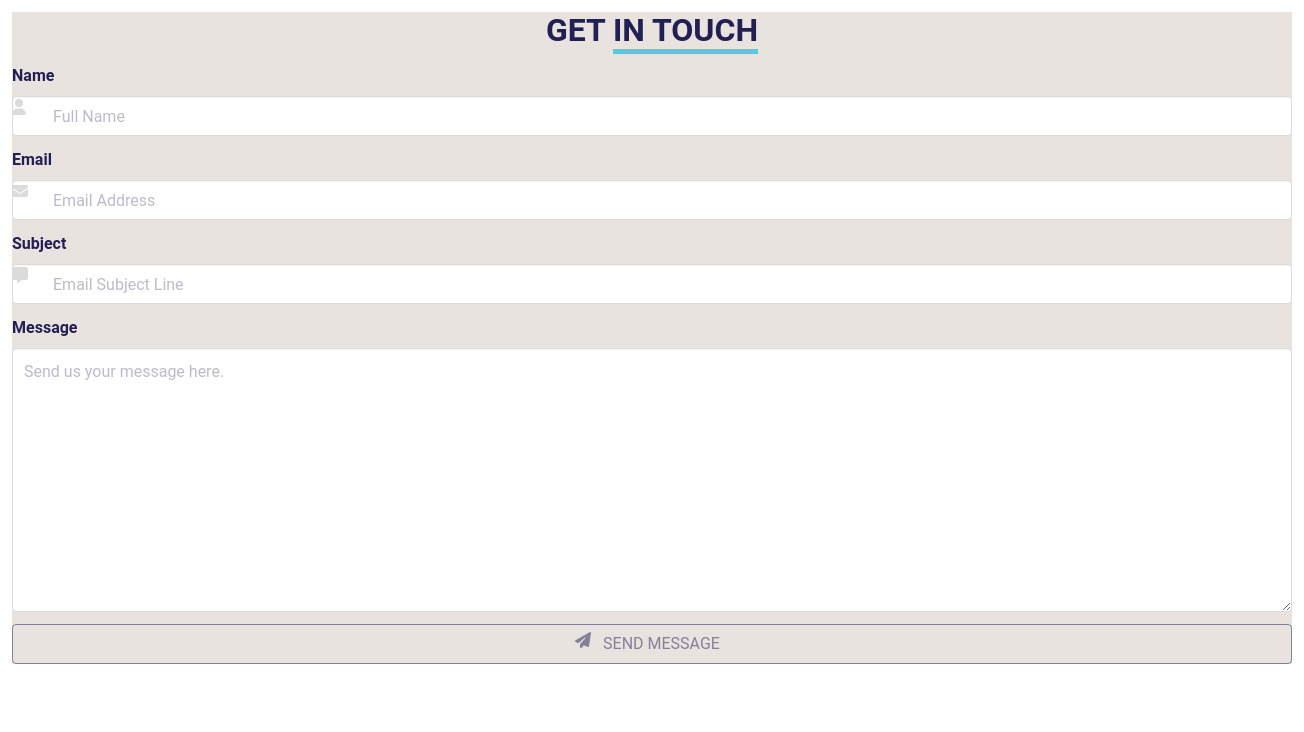
ContactForm › enables submit button only when all inputs are filled in
The width and height of the screenshot is (1304, 732).
Expected: the button with id "form-submit" is disabled, [12,624,1292,664]
Step 1. Type "Test User " into the field labelled "Name" → point(652, 116), box [12,96,1292,136]
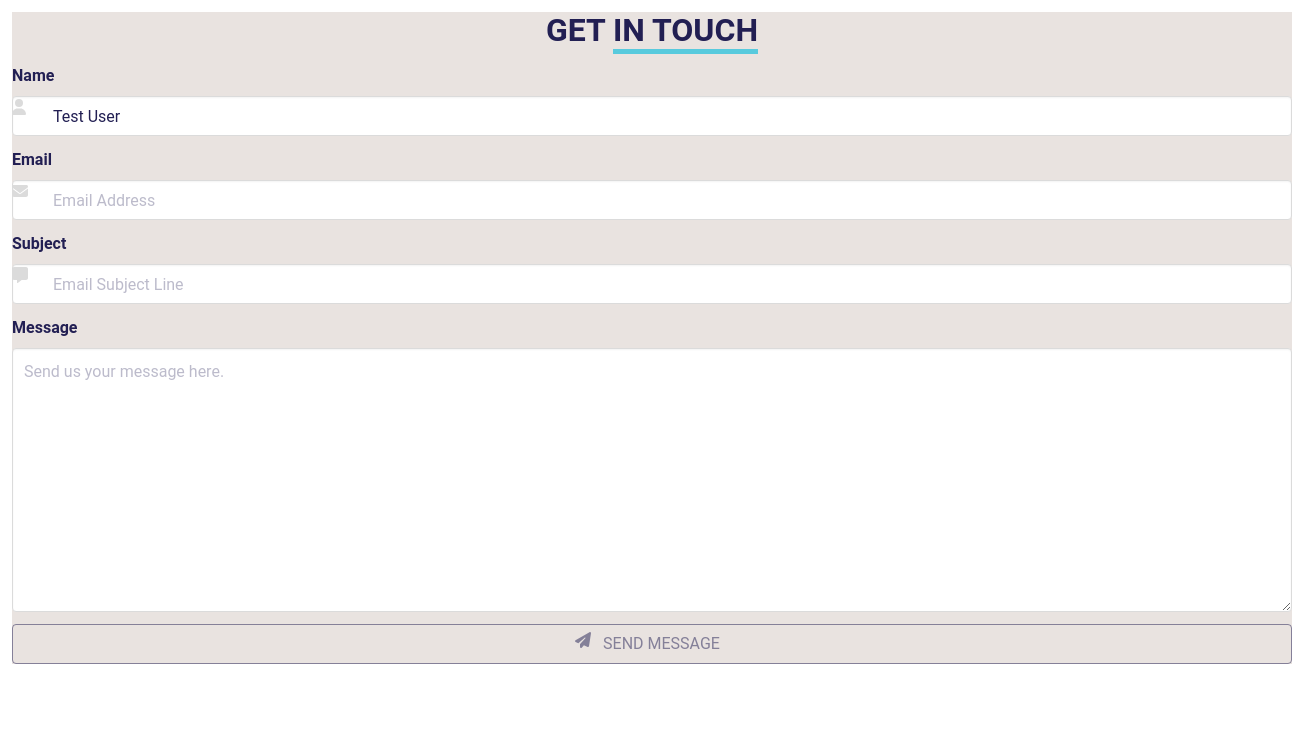
Step 2. Type "test@test.com " into the field labelled "Email" → point(652, 200), box [12,180,1292,220]
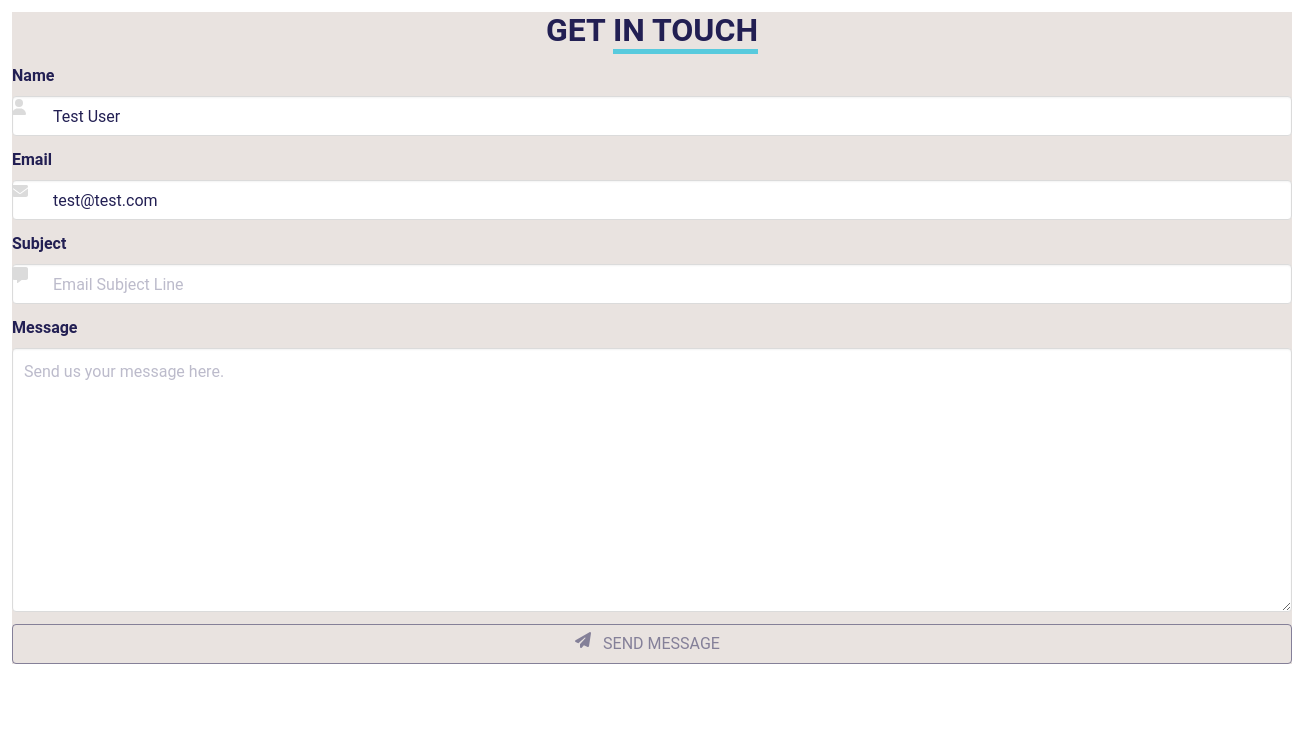
Step 3. Type " Test Subject " into the field labelled "Subject" → point(652, 284), box [12,264,1292,304]
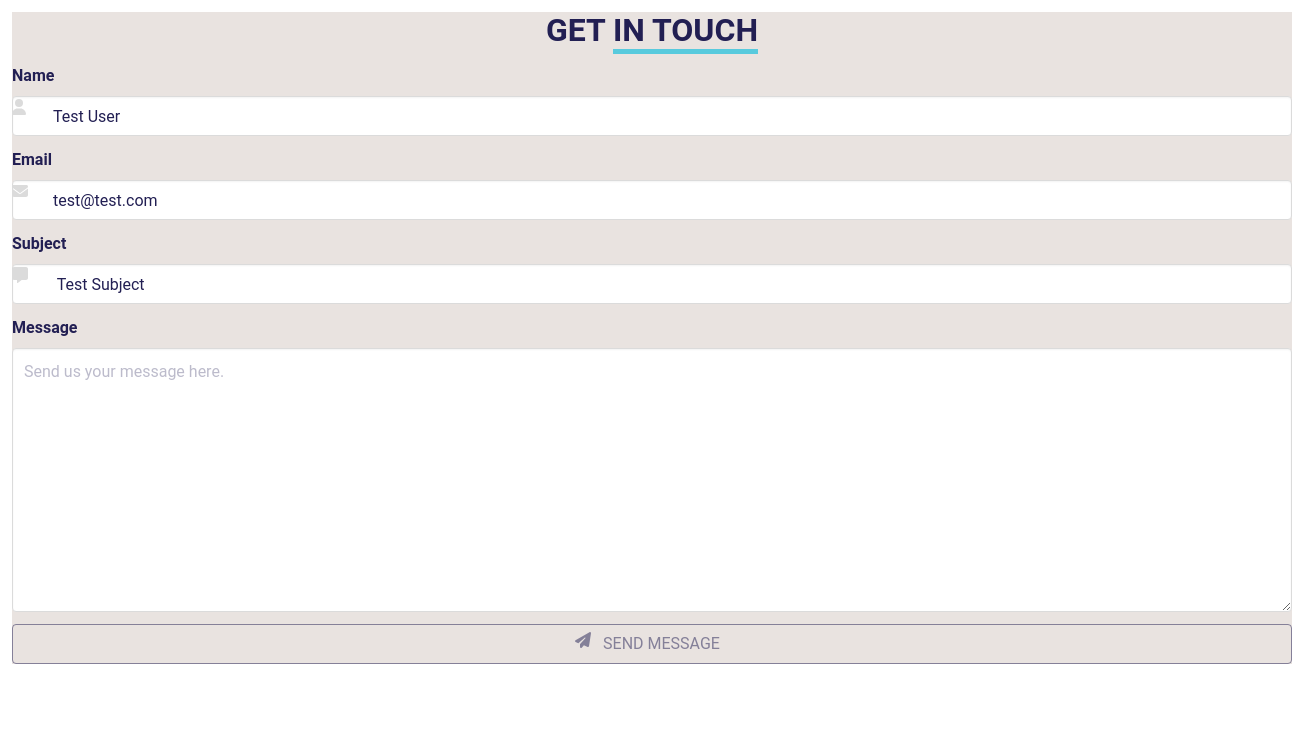
Expected: the button with id "form-submit" is disabled, [12,624,1292,664]
Step 4. Type " Test message" into the text box labelled "Message" → point(652, 480), box [12,348,1292,612]
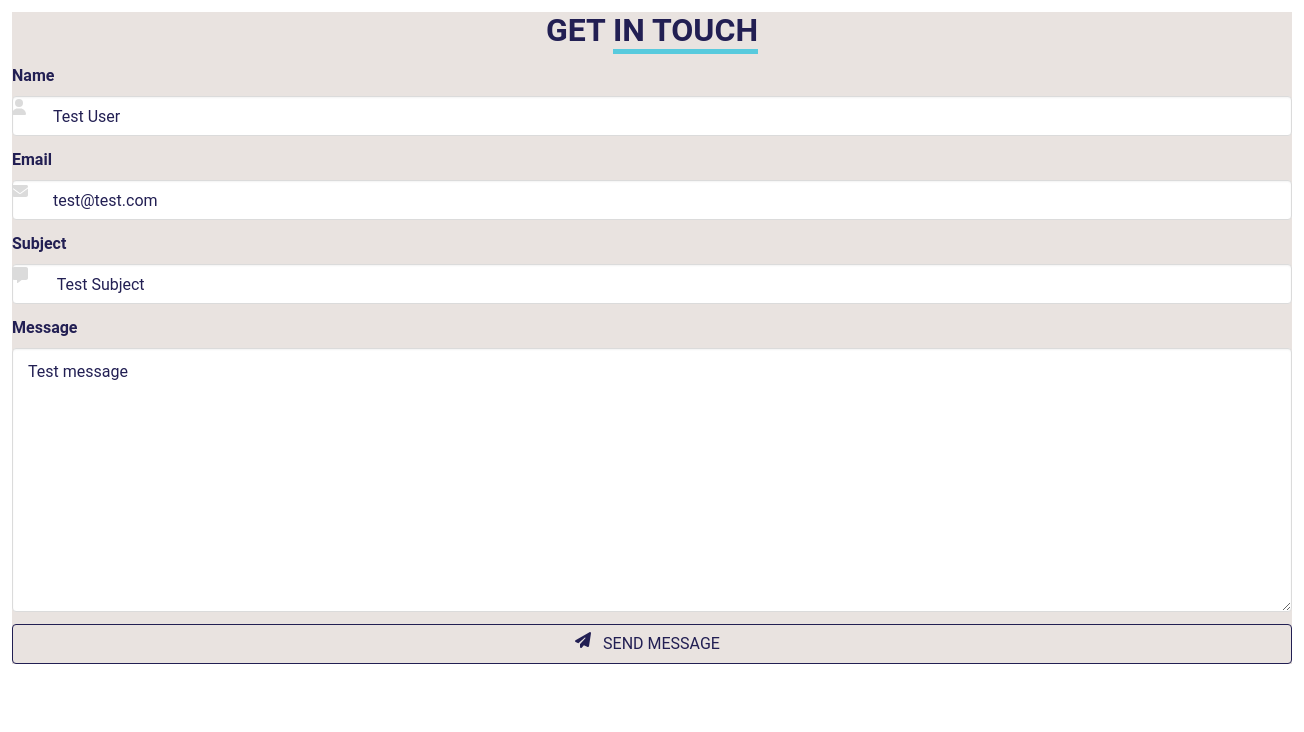
Expected: the button with id "form-submit" is enabled, [12,624,1292,664]
